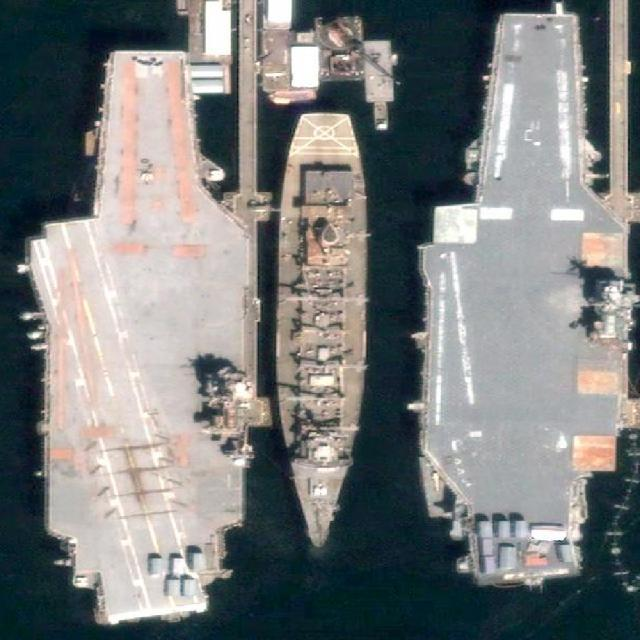Aircraft Carrier: (19, 47, 261, 623), (415, 12, 632, 585)
Auxiliary Ships: (277, 112, 370, 546)
Dock: (238, 3, 258, 398), (608, 2, 628, 277)
